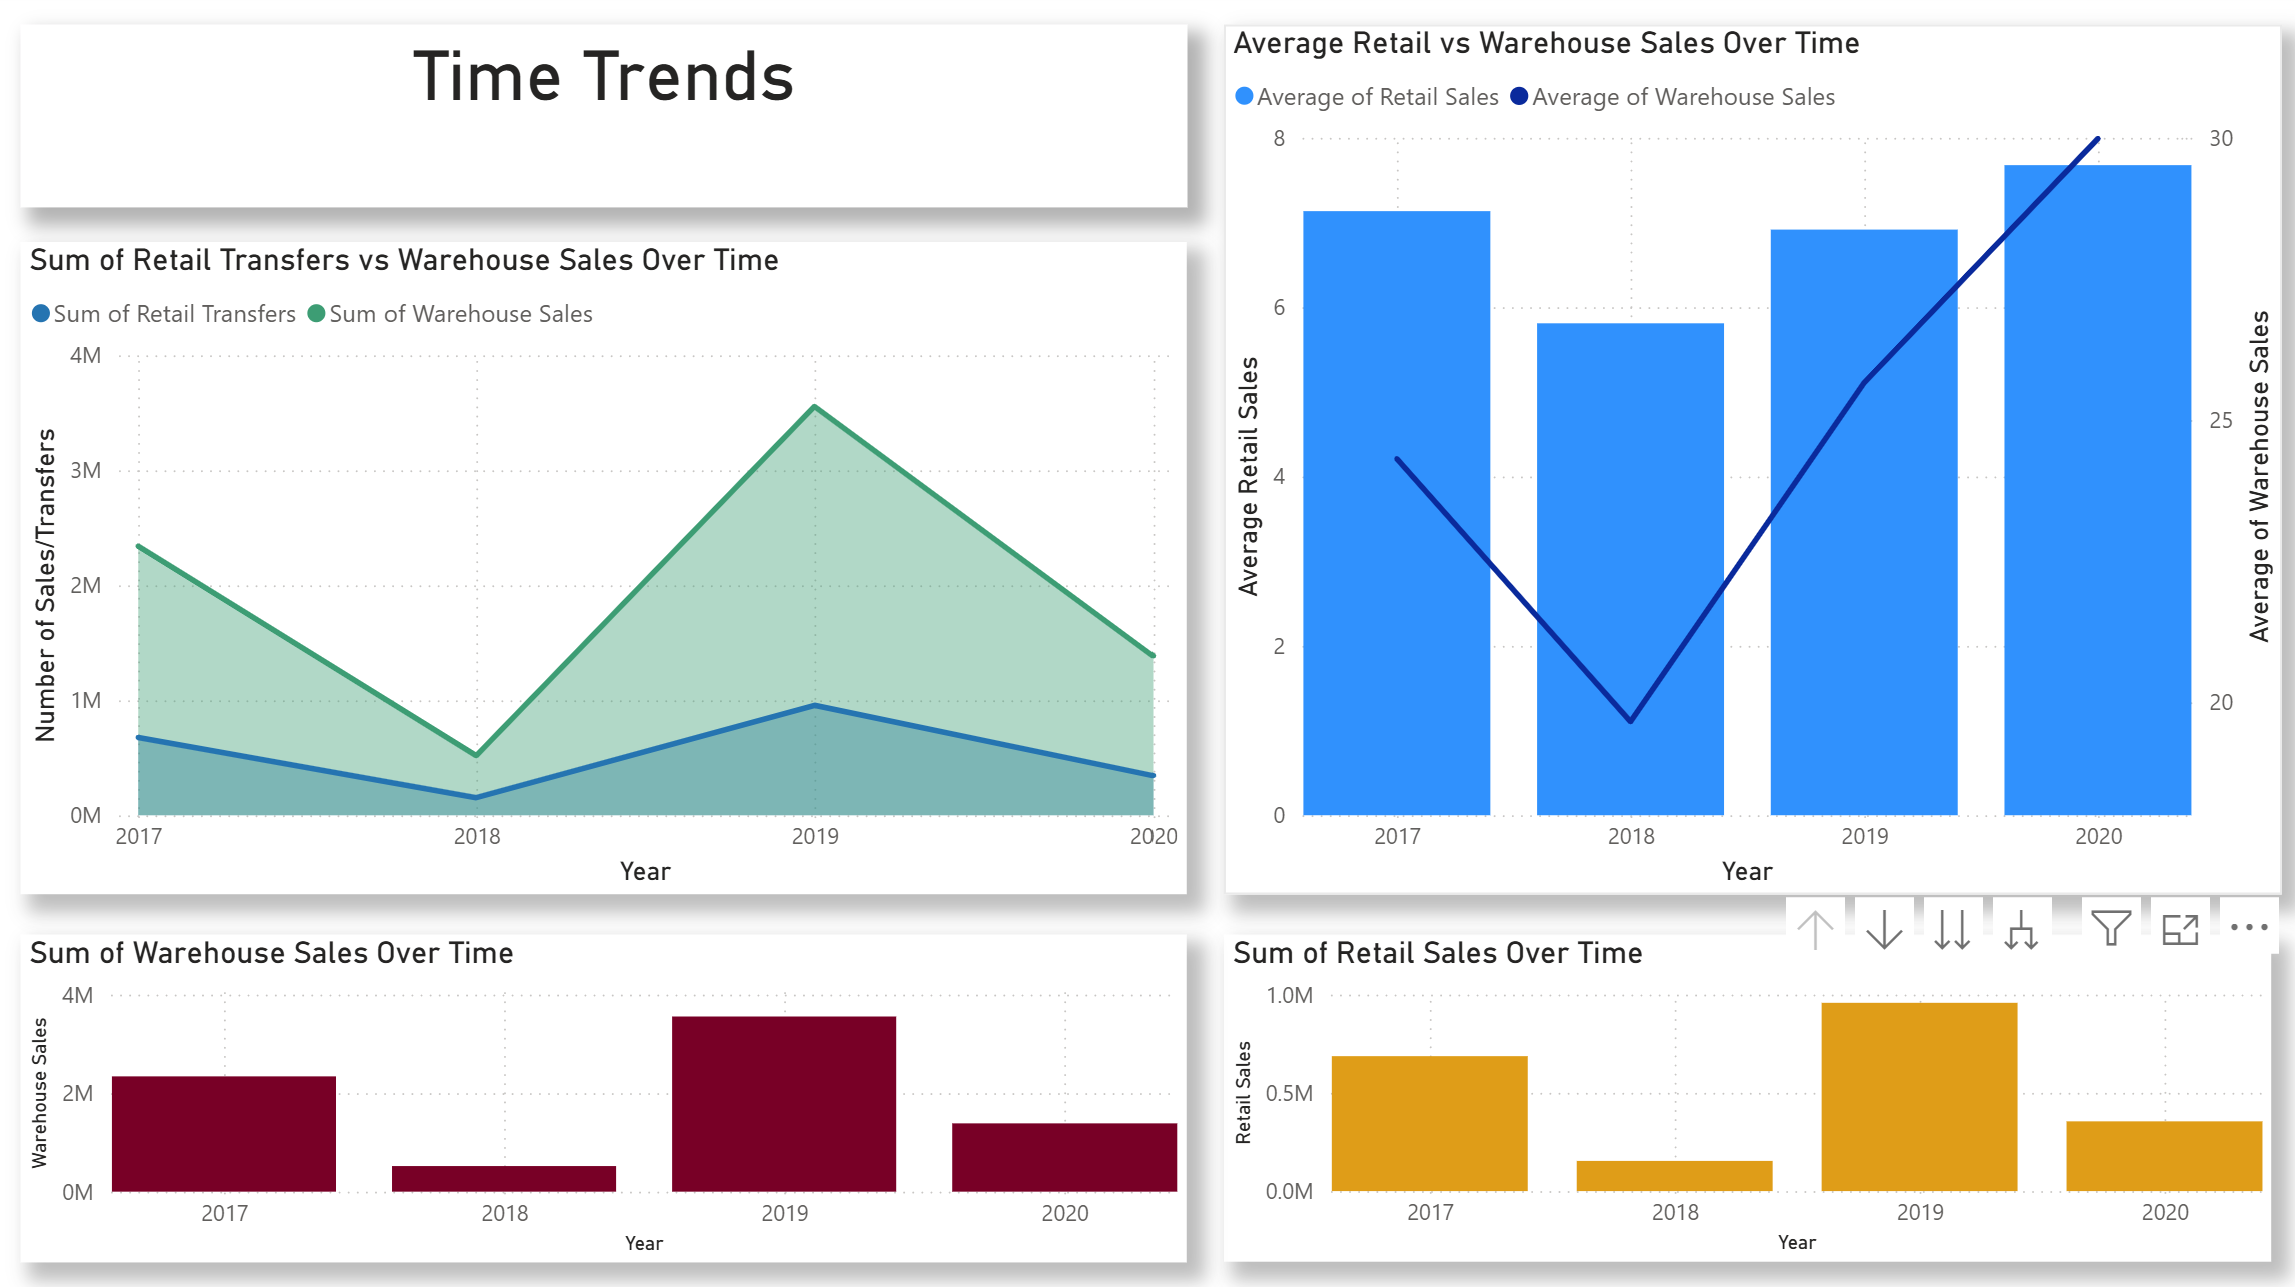

The page's visual inventory and layout, read from the dashboard file:
{"tool":"powerbi","page":{"name":"Time Trends","canvas":[1280,720],"ordinal":1},"visuals":[{"type":"textbox","box":[20.2,20.2,640,100.2],"z":0},{"type":"areaChart","title":"Sum of Retail Transfers vs Warehouse Sales Over Time","fields":{"Category":["cleaned_alcohol_sales.date.Variation.Date Hierarchy.Year","cleaned_alcohol_sales.date.Variation.Date Hierarchy.Quarter","cleaned_alcohol_sales.date.Variation.Date Hierarchy.Month","cleaned_alcohol_sales.date.Variation.Date Hierarchy.Day"],"Y":["Sum(cleaned_alcohol_sales.retail_transfers)","Sum(cleaned_alcohol_sales.warehouse_sales)"]},"box":[20.6,140,639.5,358.1],"z":1},{"type":"columnChart","title":"Sum of Retail Sales Over Time","fields":{"Category":["cleaned_alcohol_sales.date.Variation.Date Hierarchy.Year","cleaned_alcohol_sales.date.Variation.Date Hierarchy.Quarter","cleaned_alcohol_sales.date.Variation.Date Hierarchy.Month","cleaned_alcohol_sales.date.Variation.Date Hierarchy.Day"],"Y":["Sum(cleaned_alcohol_sales.retail_sales)"]},"box":[680.6,520.1,575,179.8],"z":3},{"type":"clusteredColumnChart","title":"Sum of Warehouse Sales Over Time","fields":{"Y":["Sum(cleaned_alcohol_sales.warehouse_sales)"],"Category":["cleaned_alcohol_sales.date.Variation.Date Hierarchy.Year"]},"box":[20.6,520.1,639.5,180],"z":4},{"type":"lineStackedColumnComboChart","title":"Average Retail vs Warehouse Sales Over Time","fields":{"Category":["cleaned_alcohol_sales.date.Variation.Date Hierarchy.Year","cleaned_alcohol_sales.date.Variation.Date Hierarchy.Quarter","cleaned_alcohol_sales.date.Variation.Date Hierarchy.Month","cleaned_alcohol_sales.date.Variation.Date Hierarchy.Day"],"Y":["Avg(cleaned_alcohol_sales.retail_sales)"],"Y2":["Avg(cleaned_alcohol_sales.warehouse_sales)"]},"box":[680.6,20.6,580.4,477.5],"z":5}]}

Visuals, with their boxes in screenshot pixels (x1, y1, x2, y2), scaled from the page's 1280x720 canvas onto the 2295x1287 screenshot:
textbox: select_region(36, 36, 1184, 215)
"Sum of Retail Transfers vs Warehouse Sales Over Time" areaChart: select_region(37, 250, 1184, 890)
"Sum of Retail Sales Over Time" columnChart: select_region(1220, 930, 2251, 1251)
"Sum of Warehouse Sales Over Time" clusteredColumnChart: select_region(37, 930, 1184, 1251)
"Average Retail vs Warehouse Sales Over Time" lineStackedColumnComboChart: select_region(1220, 37, 2261, 890)
